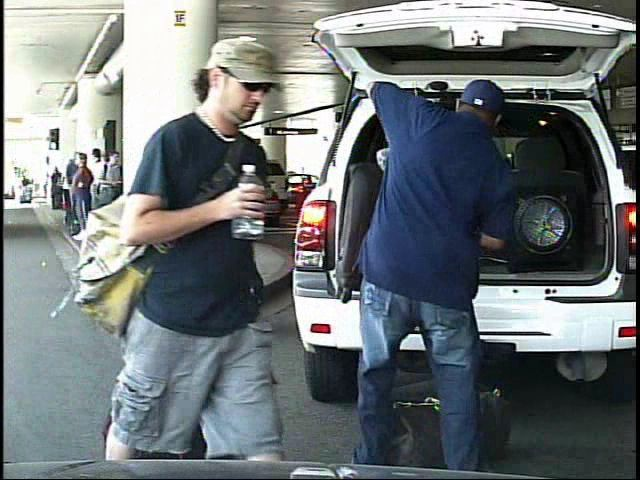person: (335, 40, 534, 479), (115, 21, 301, 480), (133, 124, 250, 349), (13, 174, 24, 205)
